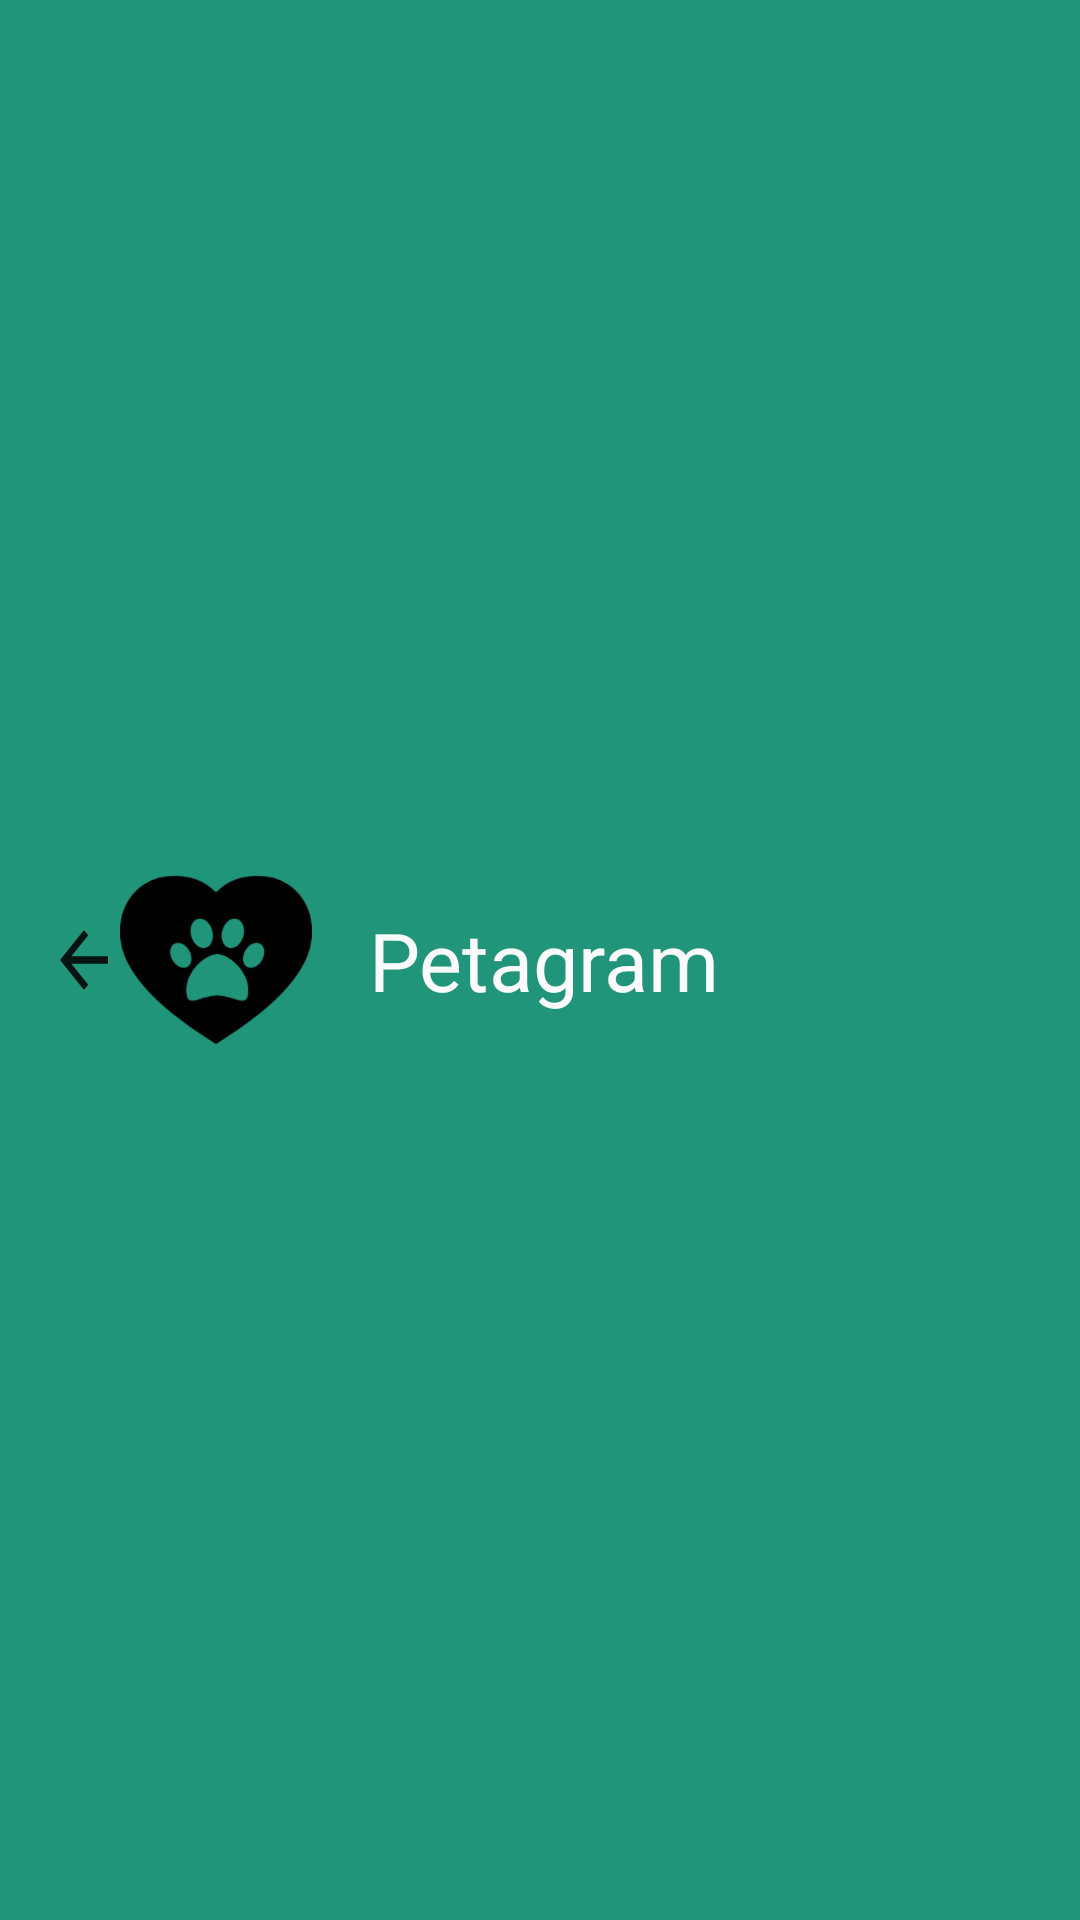

Locate icon controls on the screen. Image size 1080 x 1920, boxes as (x1, y1, x2, y2).
huella: (120, 876, 312, 1044)
